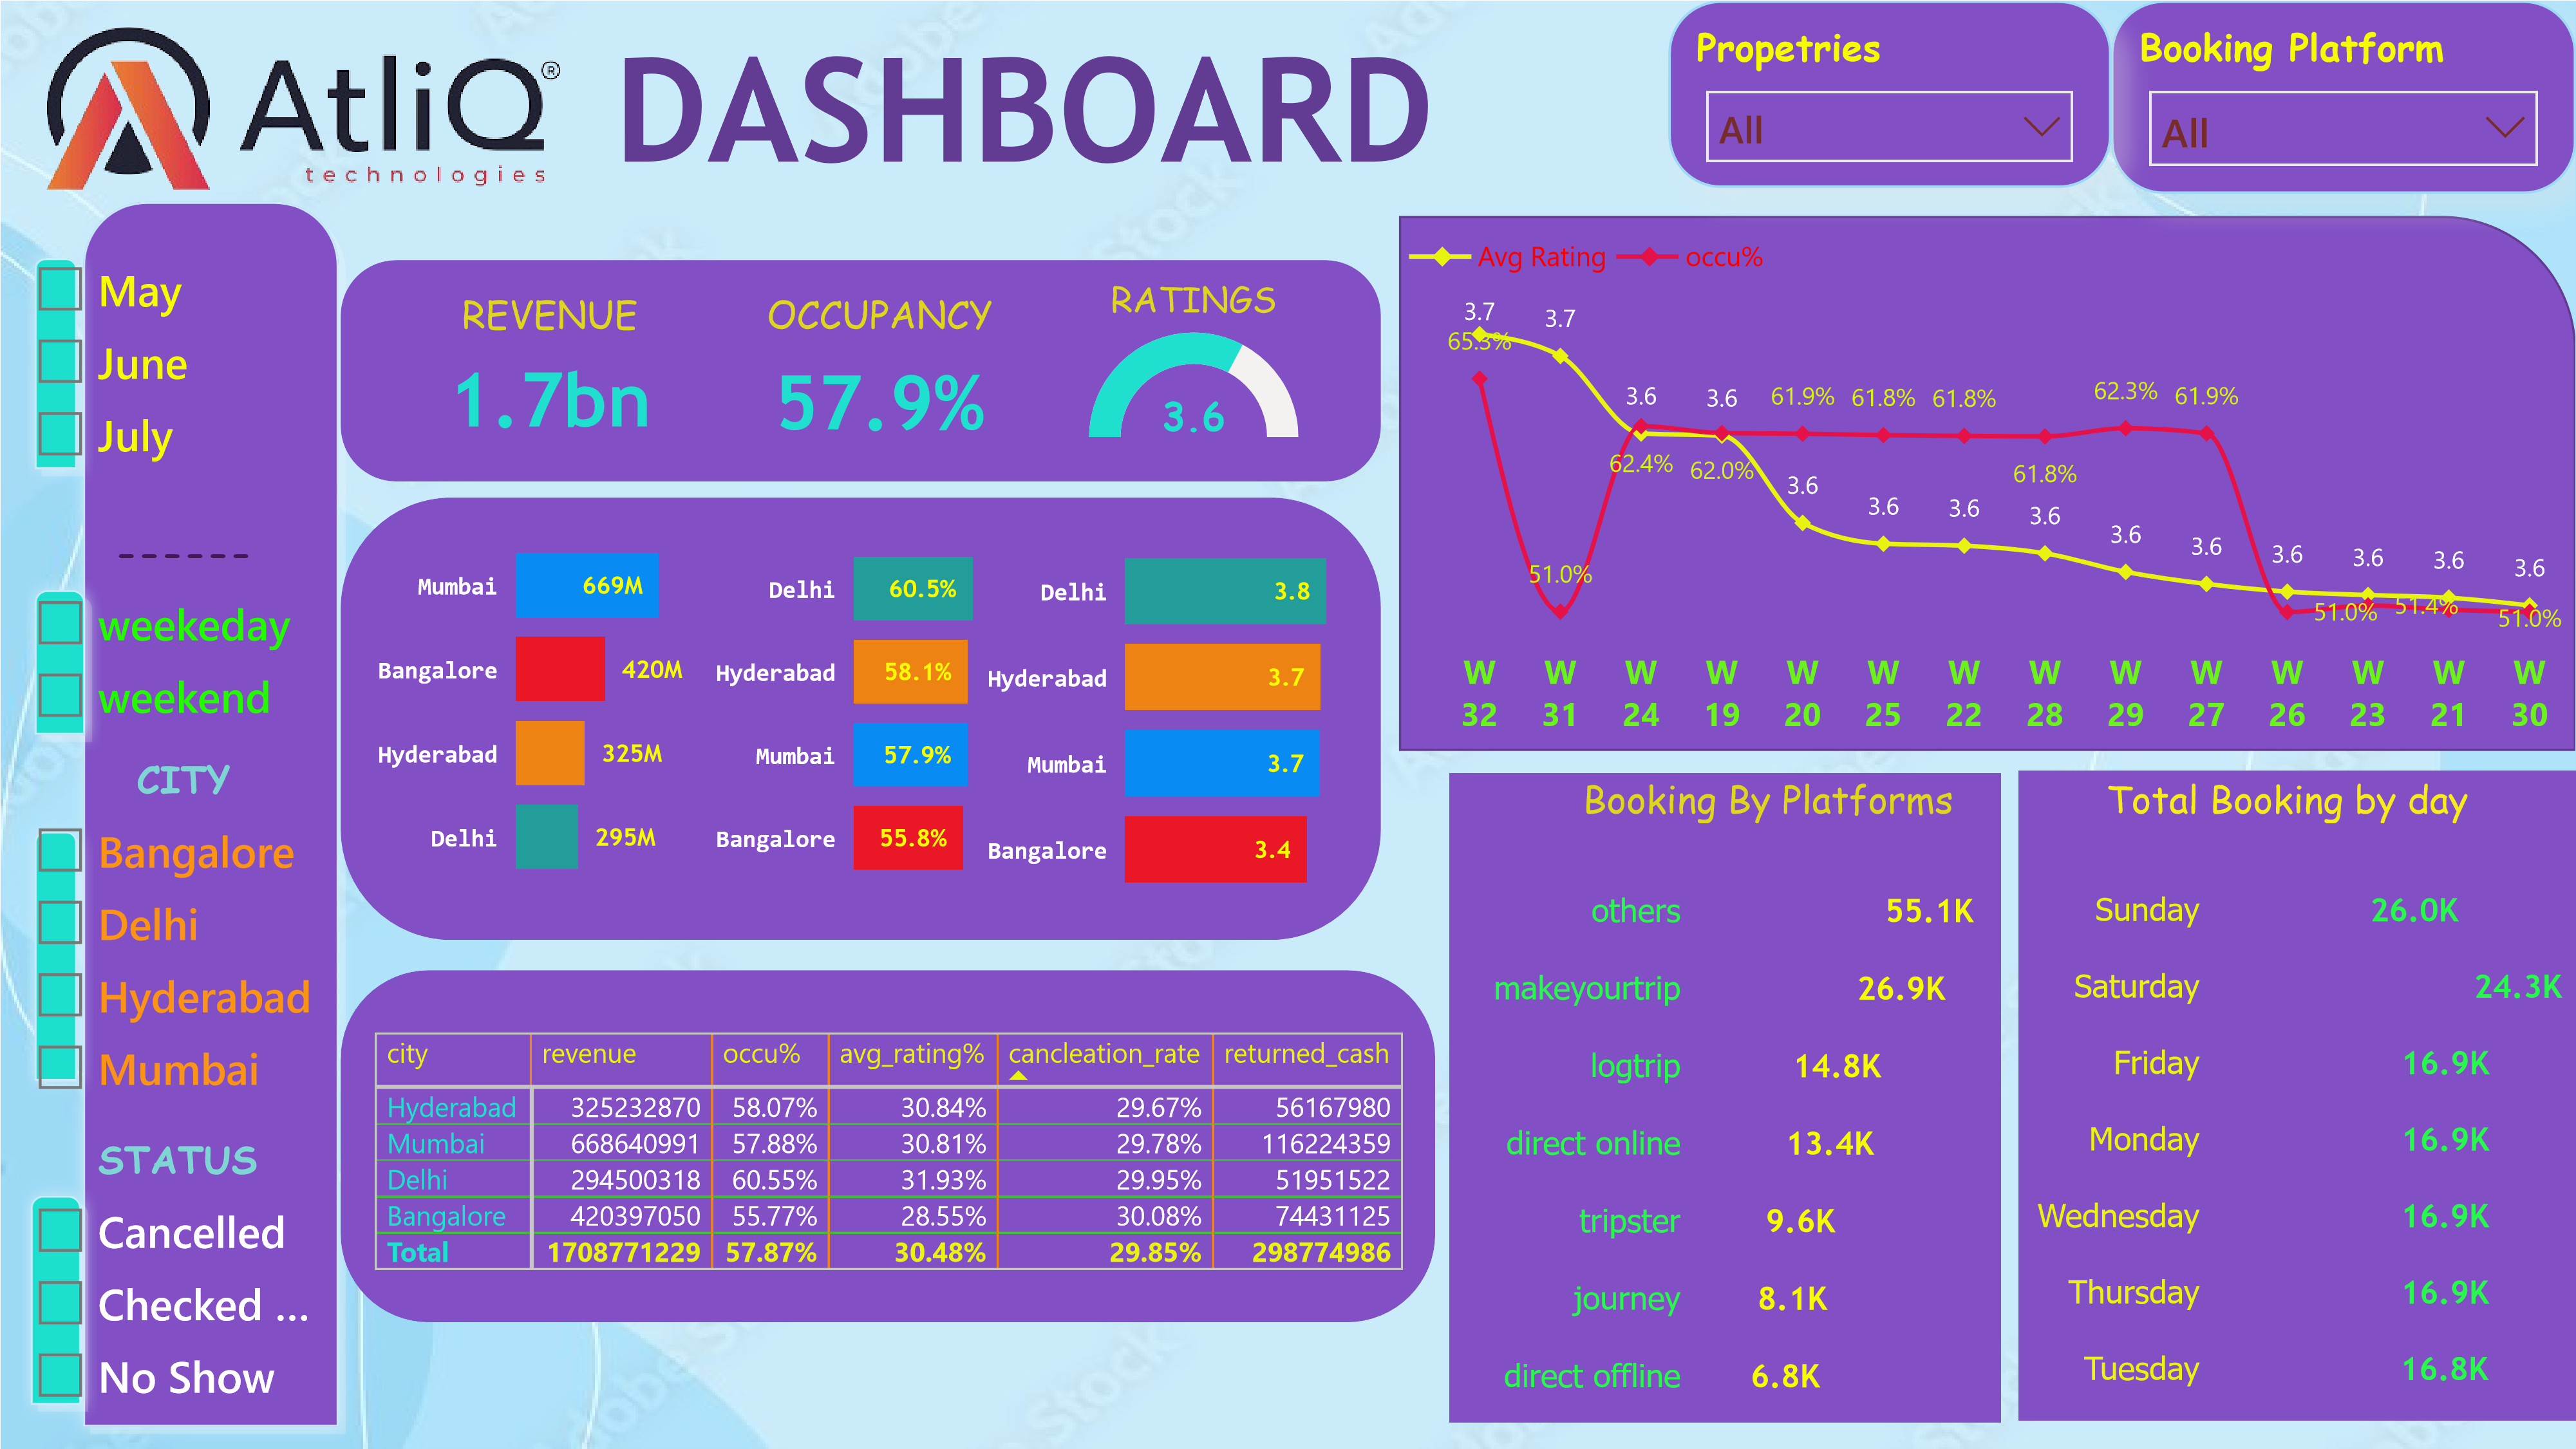

What the dashboard file says about the page in this screenshot:
{"tool":"powerbi","page":{"name":"Page 1","canvas":[1280,720],"ordinal":0},"visuals":[{"type":"card","title":"REVENUE","fields":{"Values":["dim_date.total_revenue"]},"box":[171,111.6,191.3,85.5],"z":0},{"type":"card","title":"OCCUPANCY","fields":{"Values":["fact_aggregated_bookings.occu%"]},"box":[362.3,111.6,160.9,87],"z":1000},{"type":"slicer","fields":{"Values":["fact_bookings.check_in_date.Variation.Date Hierarchy.Month"]},"box":[456.5,14.5,373.9,65.2],"z":2000},{"type":"slicer","title":"CITY","fields":{"Values":["dim_hotels.city"]},"box":[0,217.4,171,208.7],"z":3000},{"type":"slicer","title":"Booking Platform","fields":{"Values":["fact_bookings.booking_platform"]},"box":[1049.3,0,230.4,95.7],"z":4000},{"type":"slicer","title":"------","fields":{"Values":["dim_date.day_type"]},"box":[0,431.9,171,114.5],"z":5000},{"type":"slicer","title":"STATUS","fields":{"Values":["fact_bookings.booking_status"]},"box":[0,562.3,171,146.4],"z":6000},{"type":"slicer","title":"Propetries","fields":{"Values":["dim_hotels.property_name"]},"box":[829,0,220.3,92.8],"z":7000},{"type":"gauge","title":"RATINGS","fields":{"Y":["Avg(fact_bookings.ratings_given)"],"MaxValue":["dim_date.min"],"MinValue":["dim_date.min1"]},"box":[523.2,101.4,158,97.1],"z":8000},{"type":"barChart","fields":{"Category":["dim_hotels.city"],"Y":["dim_date.total_revenue"]},"box":[175.4,205.8,165.2,153.6],"z":9000},{"type":"barChart","fields":{"Category":["dim_hotels.city"],"Y":["fact_aggregated_bookings.occu%"]},"box":[358,204.3,158,153.6],"z":10000},{"type":"barChart","fields":{"Category":["dim_hotels.city"],"Y":["Avg(fact_bookings.ratings_given)"]},"box":[529,204.3,171,153.6],"z":11000},{"type":"lineChart","fields":{"Category":["dim_date.week no"],"Y":["Avg(fact_bookings.ratings_given)"],"Y2":["fact_aggregated_bookings.occu%"]},"box":[700,97.1,579.7,262.3],"z":12000}]}

Visuals, with their boxes in screenshot pixels (x1, y1, x2, y2), scaled from the page's 1280x720 canvas onto the 2576x1449 screenshot:
"REVENUE" card: [344,225,729,397]
"OCCUPANCY" card: [729,225,1053,400]
slicer - fact_bookings.check_in_date.Variation.Date Hierarchy.Month: [919,29,1671,160]
"CITY" slicer: [0,438,344,857]
"Booking Platform" slicer: [2112,0,2575,192]
"------" slicer: [0,869,344,1099]
"STATUS" slicer: [0,1132,344,1426]
"Propetries" slicer: [1668,0,2112,187]
"RATINGS" gauge: [1053,204,1371,400]
barChart - dim_hotels.city x dim_date.total_revenue: [353,414,686,724]
barChart - dim_hotels.city x fact_aggregated_bookings.occu%: [720,411,1039,720]
barChart - dim_hotels.city x Avg(fact_bookings.ratings_given): [1065,411,1409,720]
lineChart - dim_date.week no x Avg(fact_bookings.ratings_given): [1409,196,2575,724]
